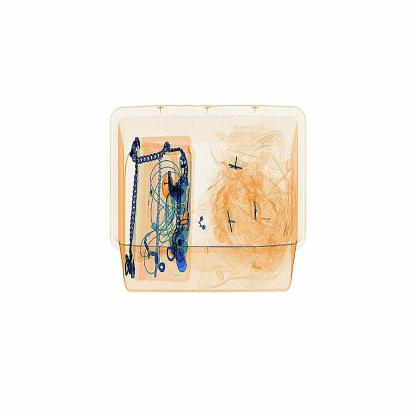pliers: (158, 165, 182, 206)
